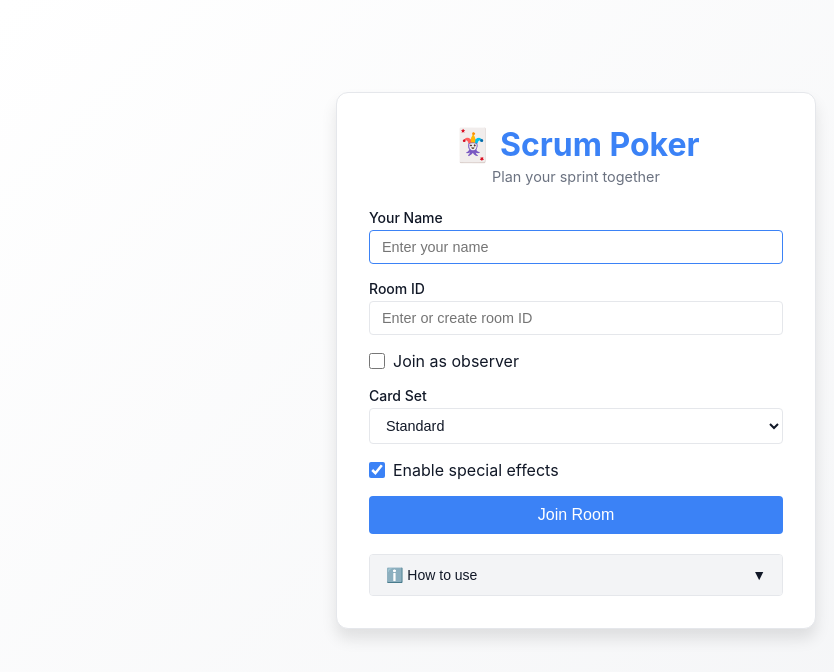
Test: WelcomeScreen › shows error if room ID is empty
Step 1. Type "Alice" into the field labelled "Your Name" → (576, 246), box 369,230 -> 783,264
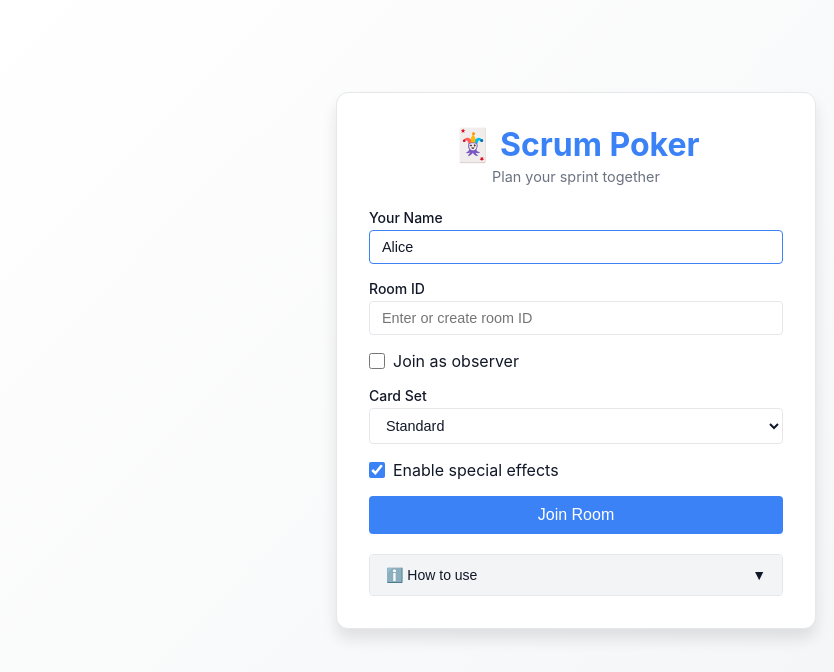
Step 2. Click the button "Join Room" → (576, 514), box 369,496 -> 783,534
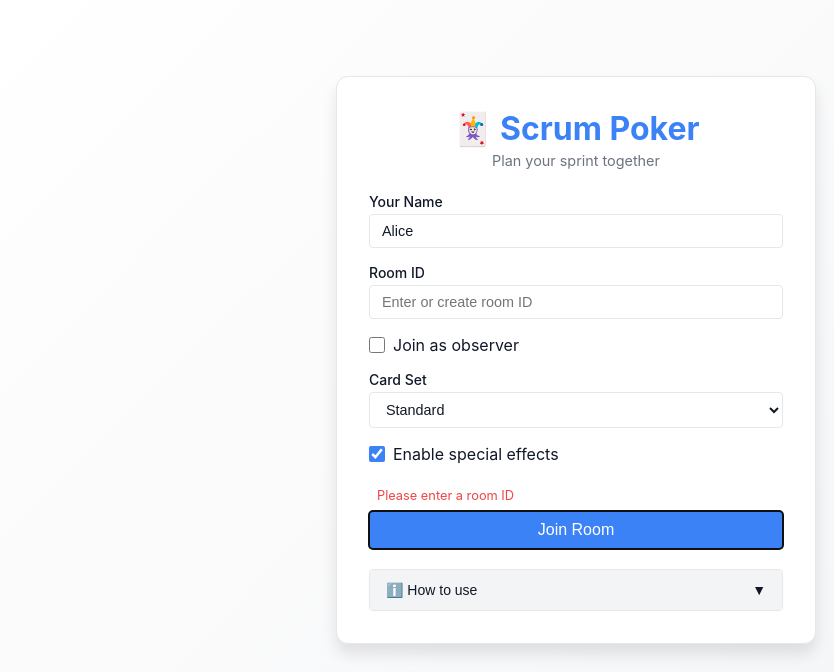
Expected: the message reads "Please enter a room ID", 377,488 -> 514,503
